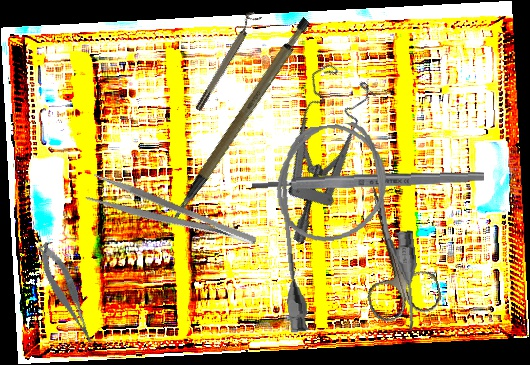Cannula: (266, 116, 425, 345)
Dressing Forceps: (84, 170, 259, 263)
Fixation Ring: (189, 9, 262, 113)
Iris Scissors: (339, 174, 445, 326)
Micro Scissor: (34, 237, 98, 352)
Scalpel Handle: (142, 14, 336, 222), (251, 169, 485, 193)
Speculum: (224, 53, 407, 247)
